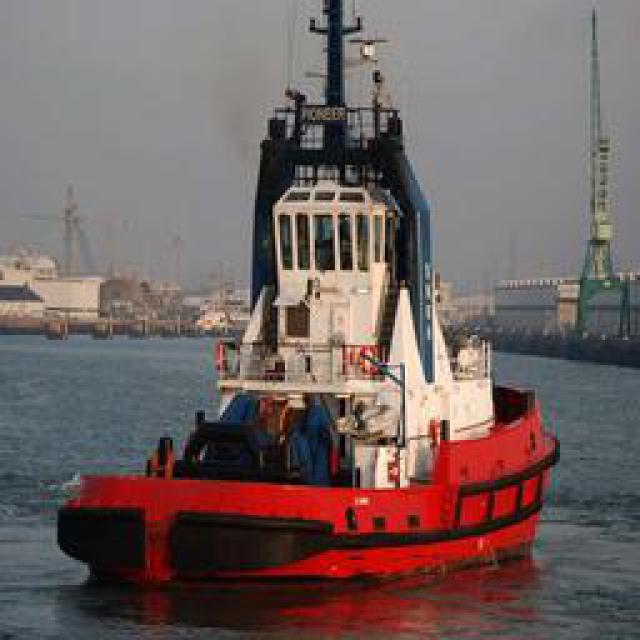Ship: (55, 13, 558, 598)
